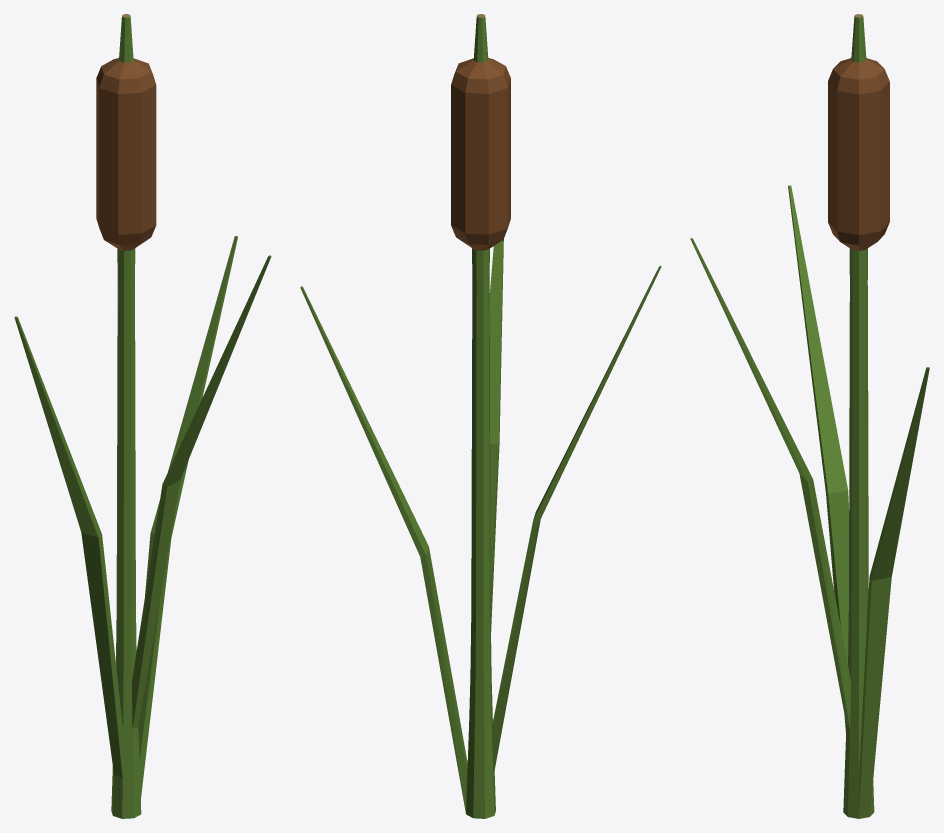
File: NEW_RECOVERY_078_LOD2.glb
The picture shows the model from 3 angles, left to right: view 1: azimuth 30°, elevation 25°; view 2: azimuth 150°, elevation 25°; view 3: azimuth 270°, elevation 25°; orthographic projection.
Parts seen in each view (by area): view 1: Cattail_whole_plant; view 2: Cattail_whole_plant; view 3: Cattail_whole_plant.
Boxes of the visible parts, x1,y1,x2,y2 form: Cattail_whole_plant: [14, 14, 271, 818]; Cattail_whole_plant: [300, 14, 661, 818]; Cattail_whole_plant: [690, 14, 929, 818].
Size of the model in its own units: 0.9785 by 2.55 by 0.6949.
